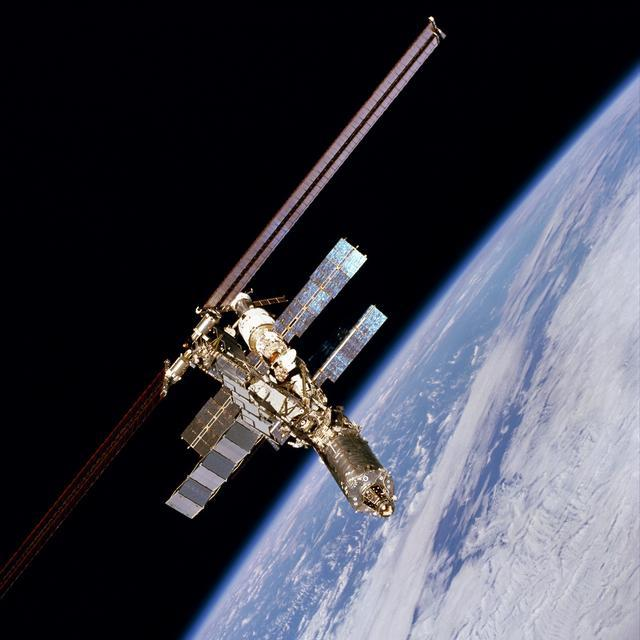medium_debris: (136, 6, 461, 520)
